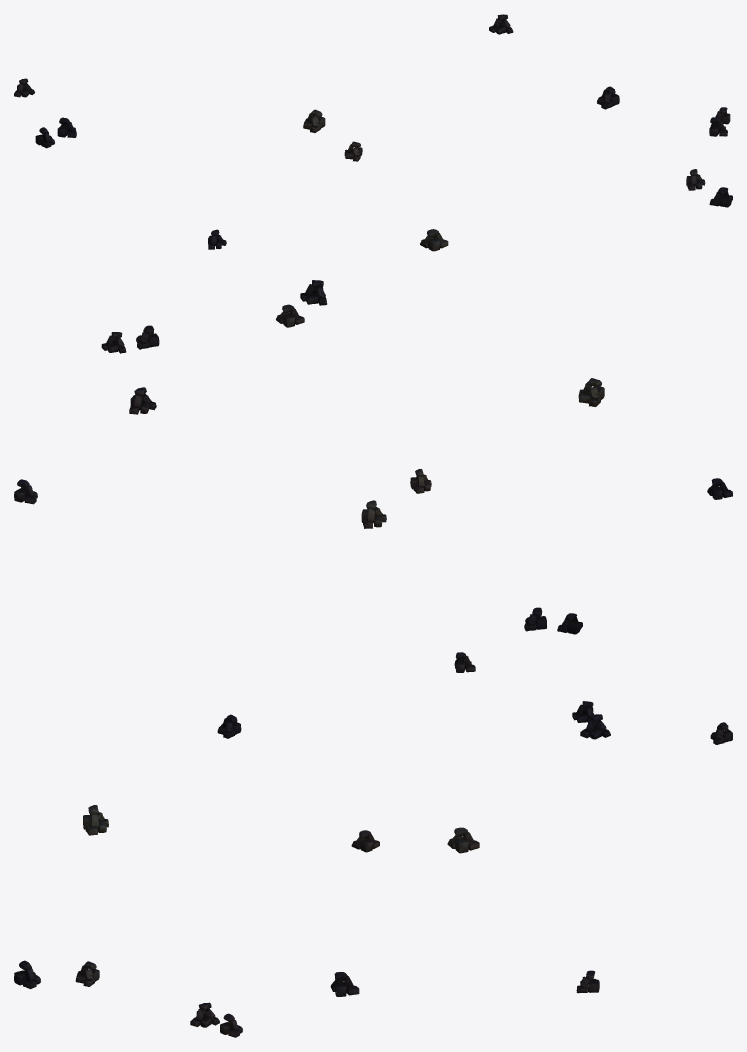
Rendered from dg_rubble_large.glb.
3 renders of one model, top to bottom at view 1: azimuth 30°, elevation 25°; view 2: azimuth 150°, elevation 25°; view 3: azimuth 270°, elevation 25°, orthographic. The views are drawn at different scales.
Visible parts, largest first — view 1: COL_DGP_RUBBLE_LARGE; view 2: COL_DGP_RUBBLE_LARGE; view 3: COL_DGP_RUBBLE_LARGE.
Part boxes in pixels (box(x1,y1,x2,y2)): COL_DGP_RUBBLE_LARGE: box(14, 14, 732, 251); COL_DGP_RUBBLE_LARGE: box(14, 280, 732, 672); COL_DGP_RUBBLE_LARGE: box(14, 701, 732, 1037).
Size of the model in its own units: 47.36 by 1.44 by 44.59.
Materials: 1 (1 with a texture image).
